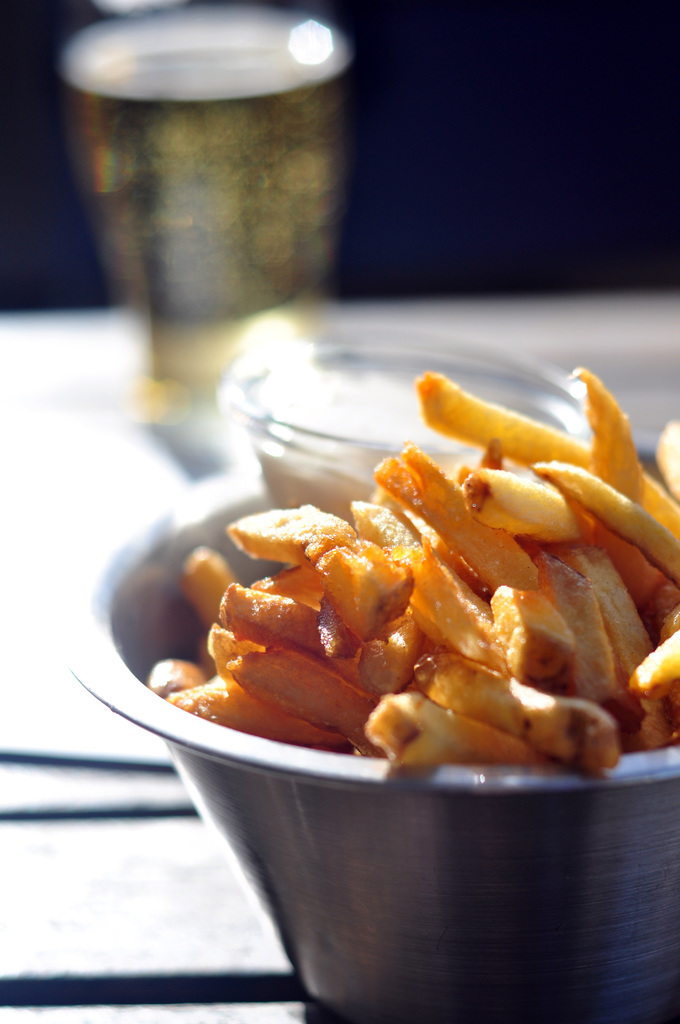French fries: (145, 366, 679, 778)
